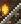torchT: (0, 1, 21, 24)
